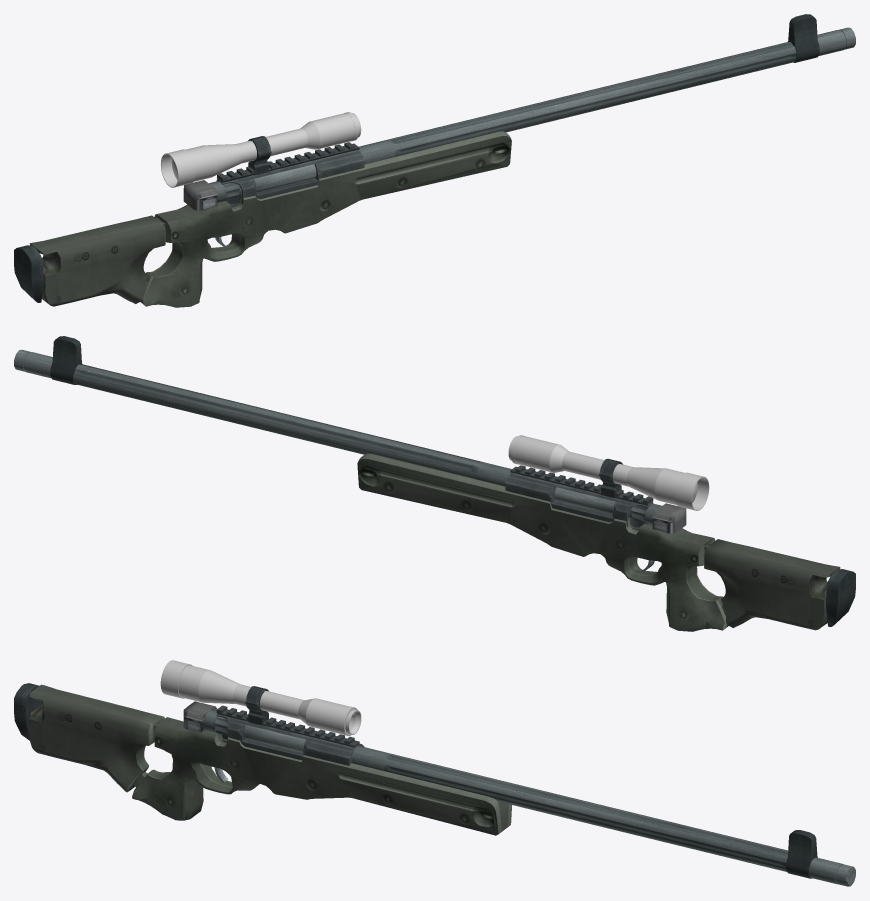
Rendered from AWM.FBX.
3 views of the same model, one above another, from view 1: azimuth 30°, elevation 25°; view 2: azimuth 150°, elevation 25°; view 3: azimuth 330°, elevation 25° (orthographic).
Visible parts, largest first — view 1: Object03, Obj_000018, Obj_000015; view 2: Object03, Obj_000018, Obj_000015; view 3: Object03, Obj_000018, Obj_000015, Obj_000022.
Boxes of the visible parts, x1,y1,x2,y2 form: Object03: (14,14,855,307); Obj_000018: (185,113,355,181); Obj_000015: (160,149,195,187); Object03: (14,336,855,631); Obj_000018: (514,436,684,504); Obj_000015: (674,472,709,510); Object03: (14,683,855,886); Obj_000018: (178,665,349,734); Obj_000015: (160,660,192,698); Obj_000022: (341,706,361,736).
Size of the model in its own units: 946 by 35.26 by 164.
